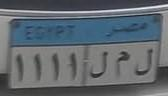1: (8, 51, 27, 88), (31, 44, 49, 80), (65, 48, 78, 80), (48, 52, 61, 81)
ل: (86, 48, 112, 82), (128, 47, 159, 73)
م: (115, 47, 132, 78)
